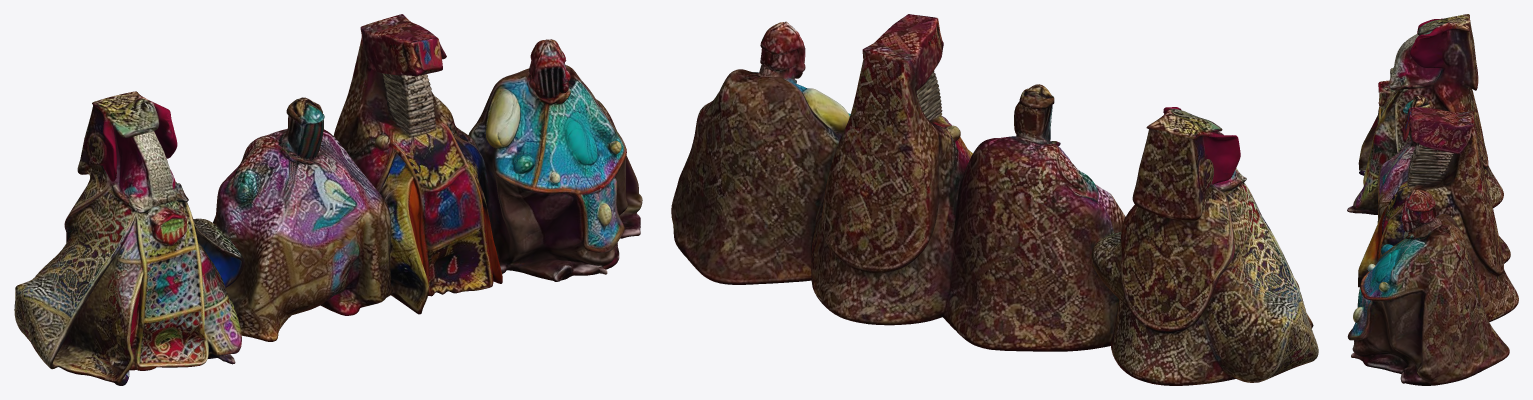
File: egungun-groupe.glb
3 views of the same model, side by side, from view 1: azimuth 30°, elevation 25°; view 2: azimuth 150°, elevation 25°; view 3: azimuth 270°, elevation 25° (orthographic). The views are drawn at different scales.
Parts seen in each view (by area): view 1: tripo_node_b7dcd585-15f3-4133-9454-1e657a57a17a; view 2: tripo_node_b7dcd585-15f3-4133-9454-1e657a57a17a; view 3: tripo_node_b7dcd585-15f3-4133-9454-1e657a57a17a.
Boxes of the visible parts, <box> form: tripo_node_b7dcd585-15f3-4133-9454-1e657a57a17a: <box>14,14,642,385</box>; tripo_node_b7dcd585-15f3-4133-9454-1e657a57a17a: <box>671,14,1318,385</box>; tripo_node_b7dcd585-15f3-4133-9454-1e657a57a17a: <box>1347,14,1518,385</box>.
Size of the model in its own units: 0.9794 by 0.3793 by 0.3063.
1 material, 1 textured.
